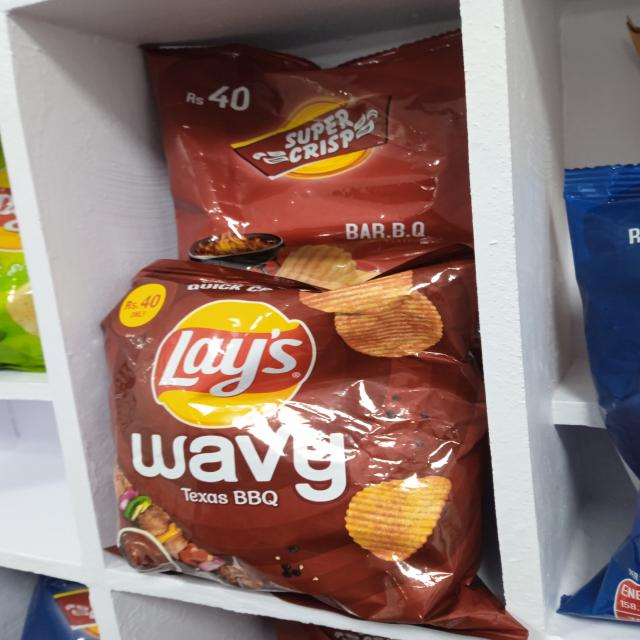Plastic: (132, 299, 466, 570), (180, 66, 440, 245)
